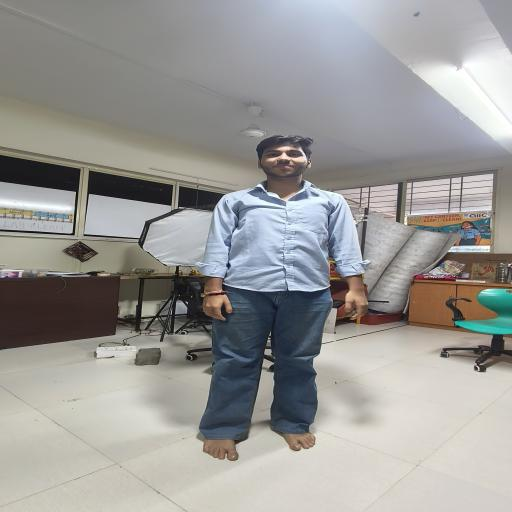survivor: (195, 135, 371, 461)
